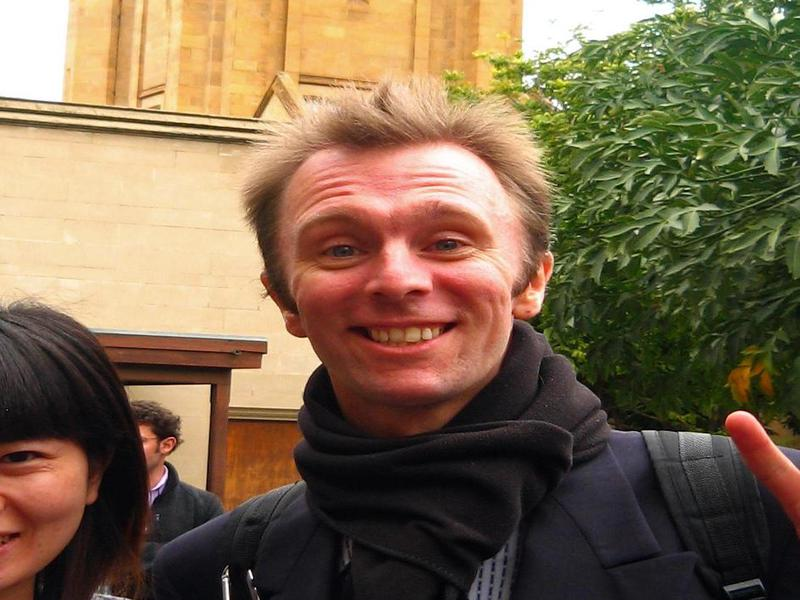person: (147, 86, 794, 600), (1, 293, 153, 600), (136, 398, 226, 536)
